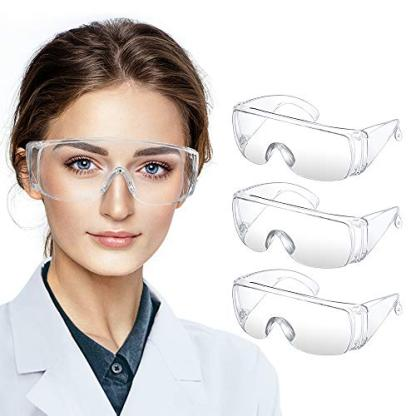oculos: (24, 140, 199, 206)
